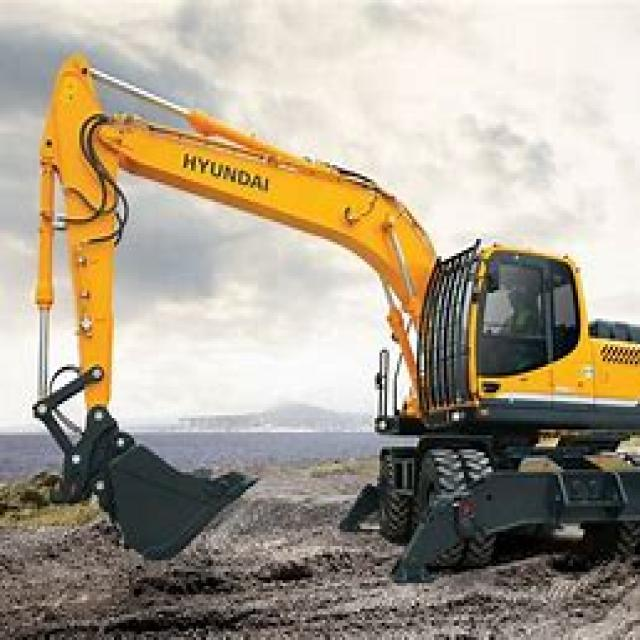dump_truck: (39, 62, 614, 612)
